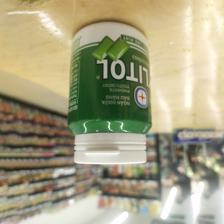Xylitol_green: (67, 20, 154, 166)
